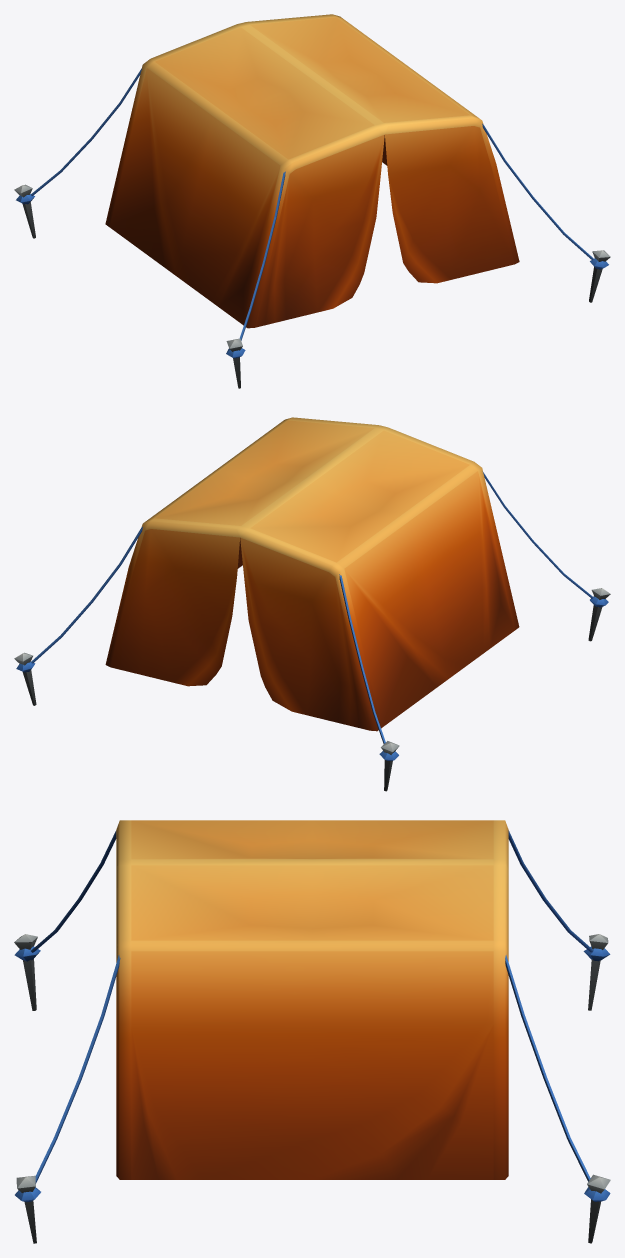
The model's file is Tent_1B.fbx.
3 renders of one model, top to bottom at view 1: azimuth 30°, elevation 25°; view 2: azimuth 150°, elevation 25°; view 3: azimuth 270°, elevation 25°, orthographic. The views are drawn at different scales.
Visible parts, largest first — view 1: Tent_1B; view 2: Tent_1B; view 3: Tent_1B.
Part boxes in pixels (x1,y1,x2,y2): Tent_1B: (14, 14, 610, 388); Tent_1B: (14, 417, 610, 791); Tent_1B: (14, 820, 610, 1243).
Size of the model in its own units: 421 by 206 by 421.
